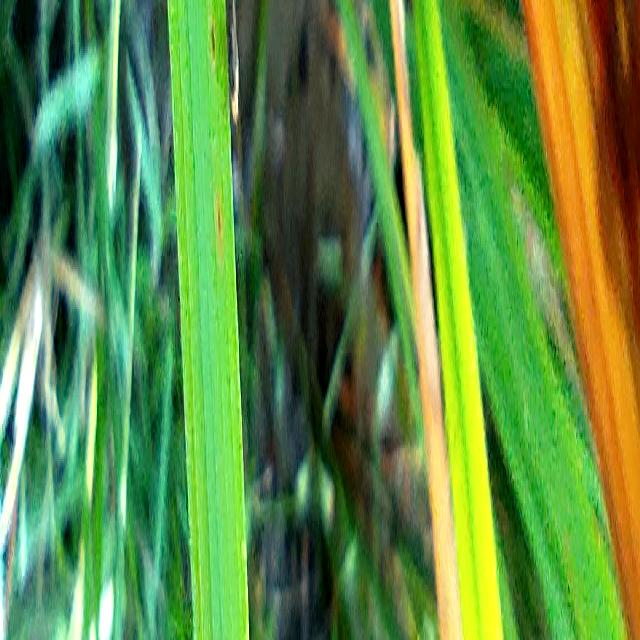NBS: (215, 186, 224, 275), (207, 11, 218, 80)
